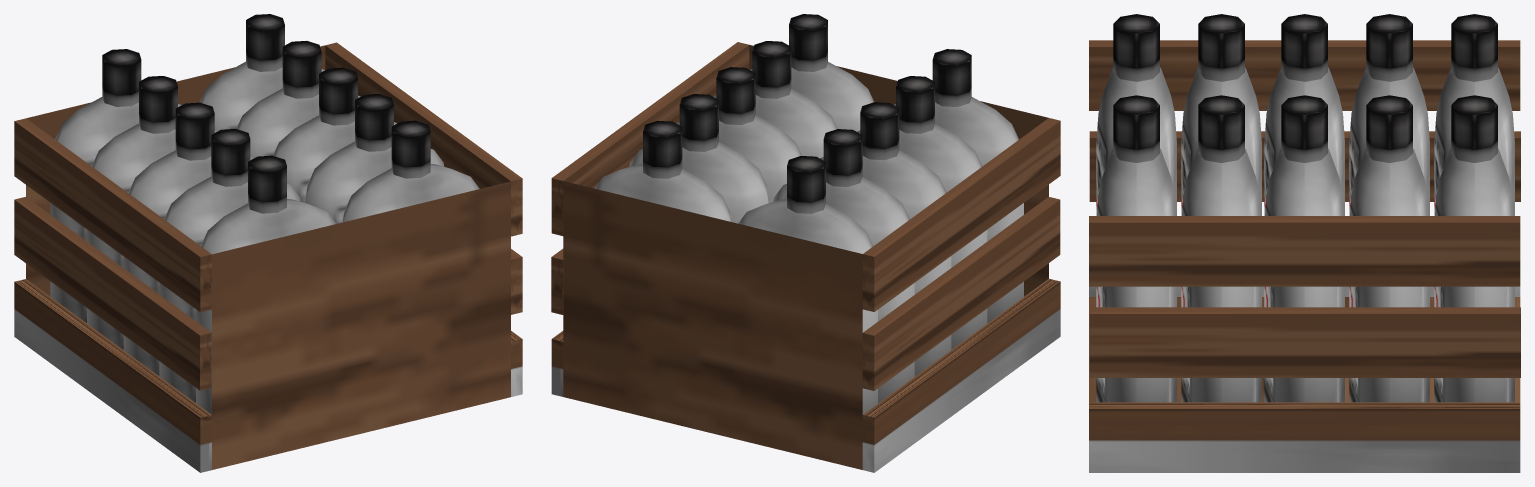
Rendered from wooden_box_of_whiskey_bottles.fbx.
The picture shows the model from 3 angles, left to right: view 1: azimuth 30°, elevation 25°; view 2: azimuth 150°, elevation 25°; view 3: azimuth 270°, elevation 25°; orthographic projection. The views are drawn at different scales.
Visible parts, largest first — view 1: WhiskeyBottleBox; view 2: WhiskeyBottleBox; view 3: WhiskeyBottleBox.
Boxes of the visible parts, <box> form: WhiskeyBottleBox: <box>14,14,522,472</box>; WhiskeyBottleBox: <box>551,14,1060,472</box>; WhiskeyBottleBox: <box>1089,14,1520,472</box>.
Bounding box in the file's own units: 0.205 × 0.1657 × 0.205.
